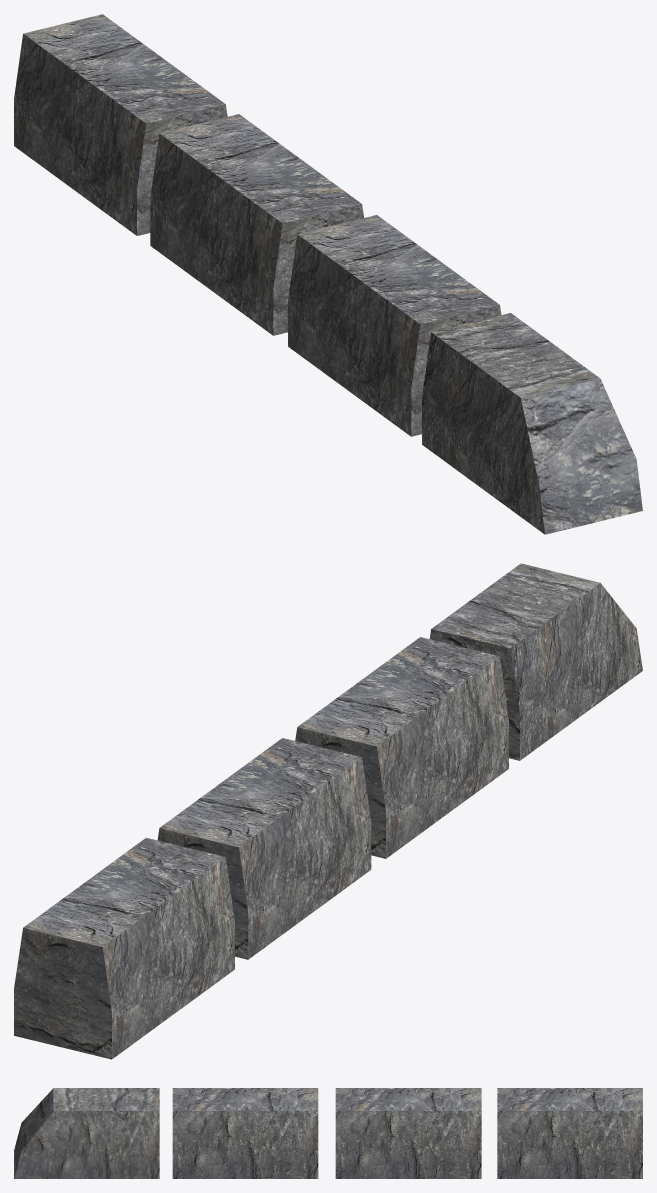
File: TrainTown.fbx
3 views of the same model, one above another, from view 1: azimuth 30°, elevation 25°; view 2: azimuth 150°, elevation 25°; view 3: azimuth 270°, elevation 25° (orthographic). The views are drawn at different scales.
Visible parts, largest first — view 1: Train01, Train03, Train04, Train02; view 2: Train04, Train02, Train03, Train01; view 3: Train02, Train03, Train04, Train01.
Part boxes in pixels (x1,y1,x2,y2): Train01: [422, 313, 642, 534]; Train03: [150, 114, 363, 335]; Train04: [14, 14, 227, 235]; Train02: [288, 215, 501, 436]; Train04: [14, 837, 234, 1059]; Train02: [295, 637, 508, 858]; Train03: [157, 738, 371, 959]; Train01: [429, 563, 642, 760]; Train02: [172, 1088, 318, 1178]; Train03: [335, 1088, 481, 1178]; Train04: [497, 1088, 642, 1178]; Train01: [14, 1088, 159, 1178].
Bounding box in the file's own units: 136 × 146 × 1274.
